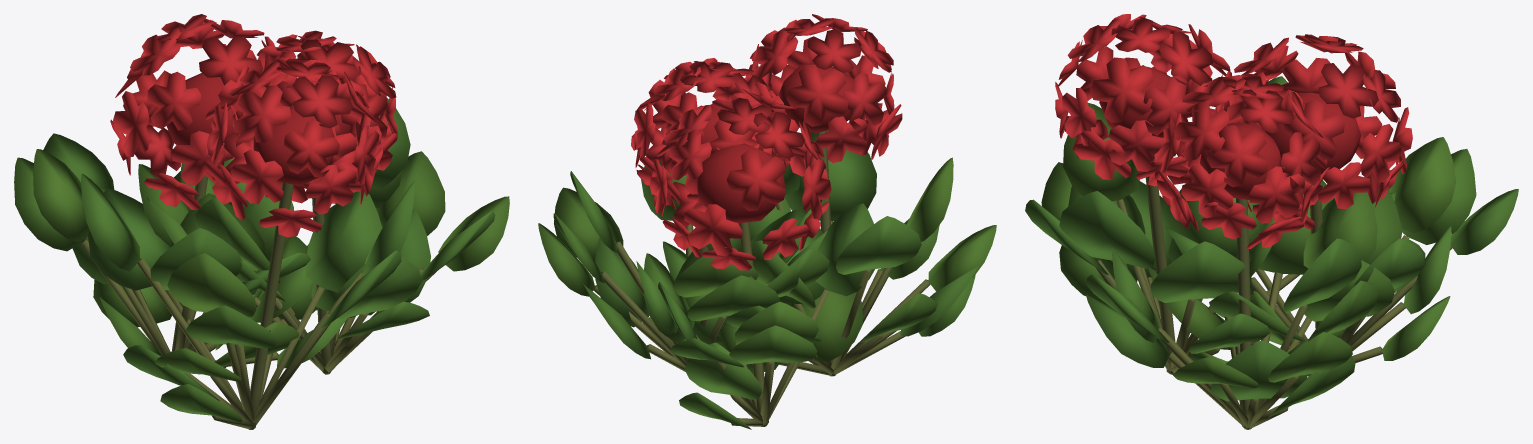
The model's file is potfill_geranium_red.glb.
3 views of the same model, side by side, from view 1: azimuth 30°, elevation 25°; view 2: azimuth 150°, elevation 25°; view 3: azimuth 270°, elevation 25° (orthographic). The views are drawn at different scales.
Parts seen in each view (by area): view 1: Sammel Pflanze, Sammel Putz; view 2: Sammel Pflanze, Sammel Putz; view 3: Sammel Pflanze, Sammel Putz.
Part boxes in pixels (<box>): Sammel Pflanze: <box>14,14,509,422</box>; Sammel Putz: <box>81,175,436,429</box>; Sammel Pflanze: <box>538,14,996,429</box>; Sammel Putz: <box>593,131,930,426</box>; Sammel Pflanze: <box>1025,14,1518,417</box>; Sammel Putz: <box>1096,154,1452,429</box>.
Size of the model in its own units: 0.382 by 0.3236 by 0.3974.
